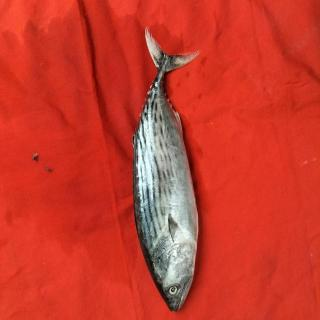Ikan: (129, 26, 215, 318)
